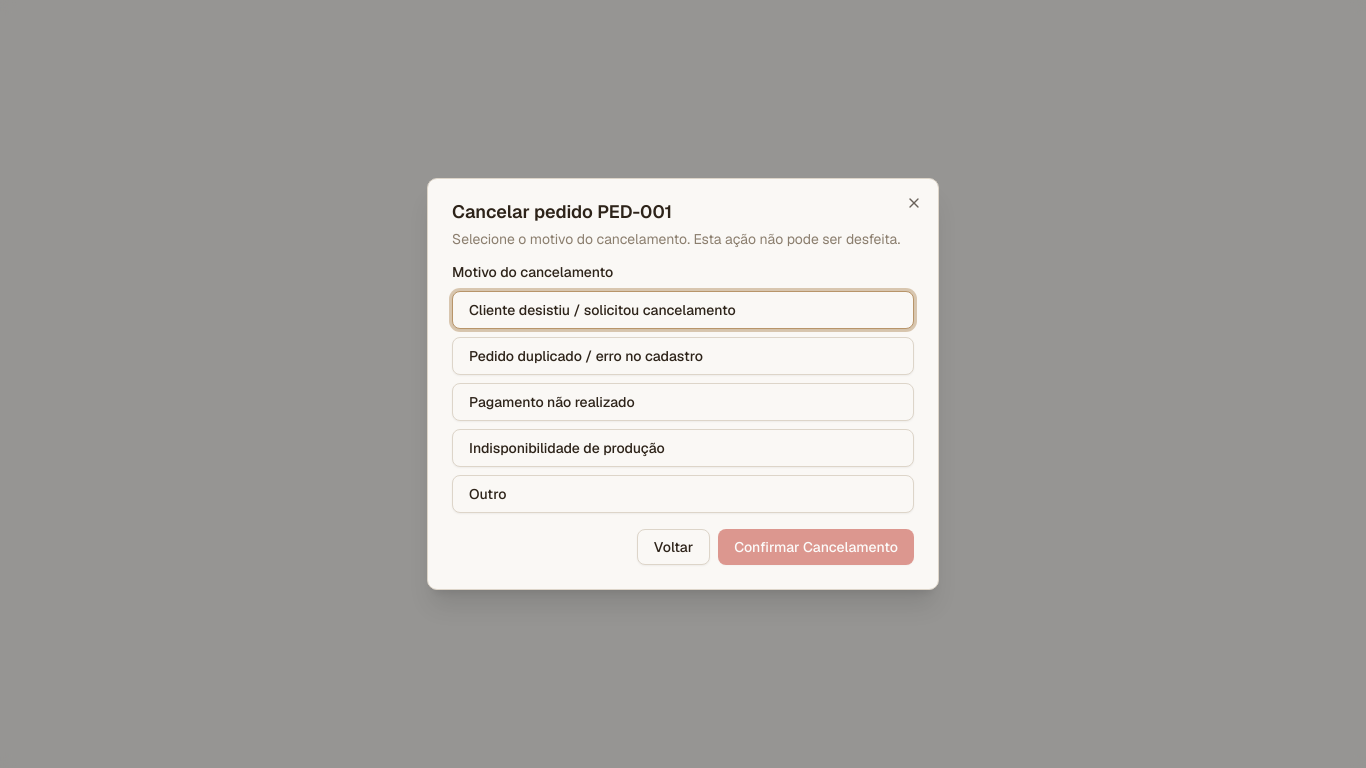
CancelPedidoDialog › requires free text when "Outro" is chosen
This screenshot has width=1366, height=768.
Click the button "Outro" at (488, 494), box x1=452 y1=475 x2=914 y2=513
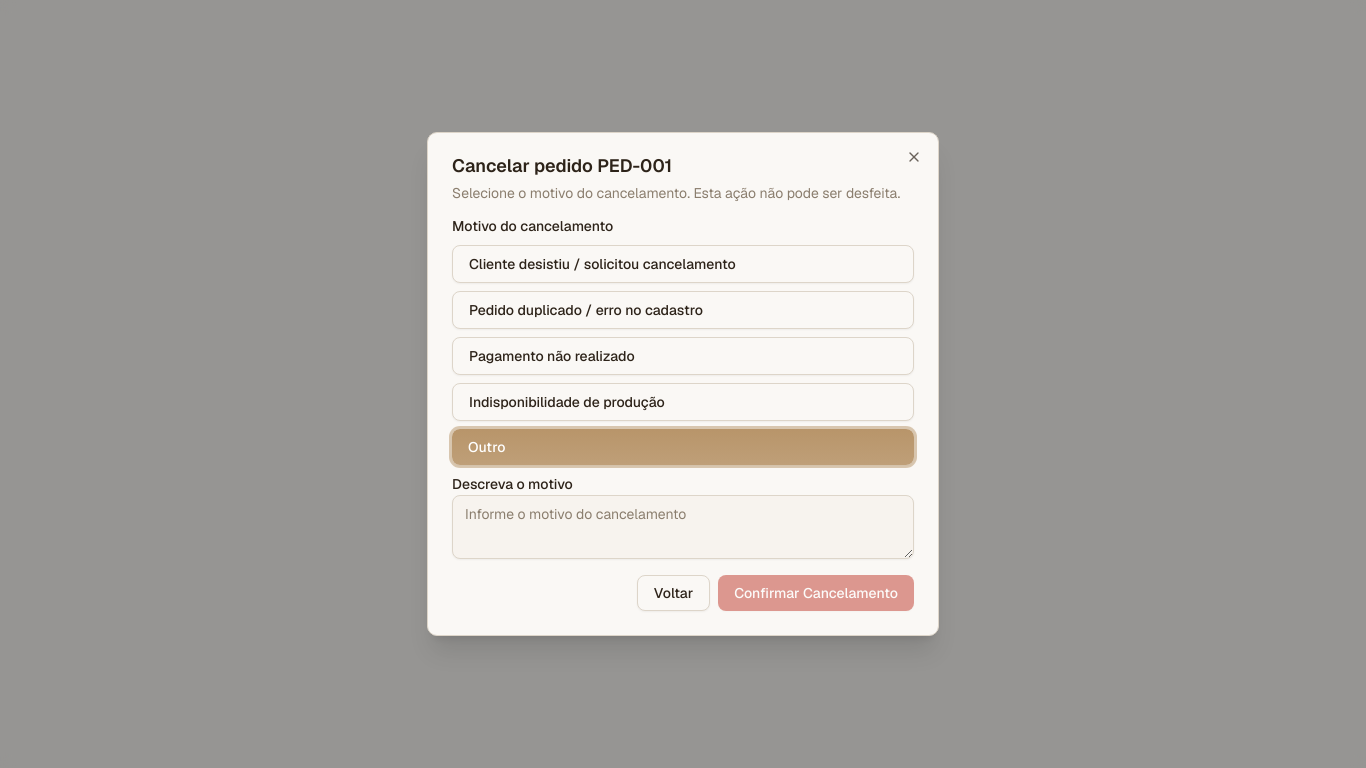
Expected: the button "Confirmar Cancelamento" is disabled, x1=718 y1=575 x2=914 y2=611
Type "Fora da área" into the text box labelled "Descreva o motivo" at (683, 527), box x1=452 y1=495 x2=914 y2=559
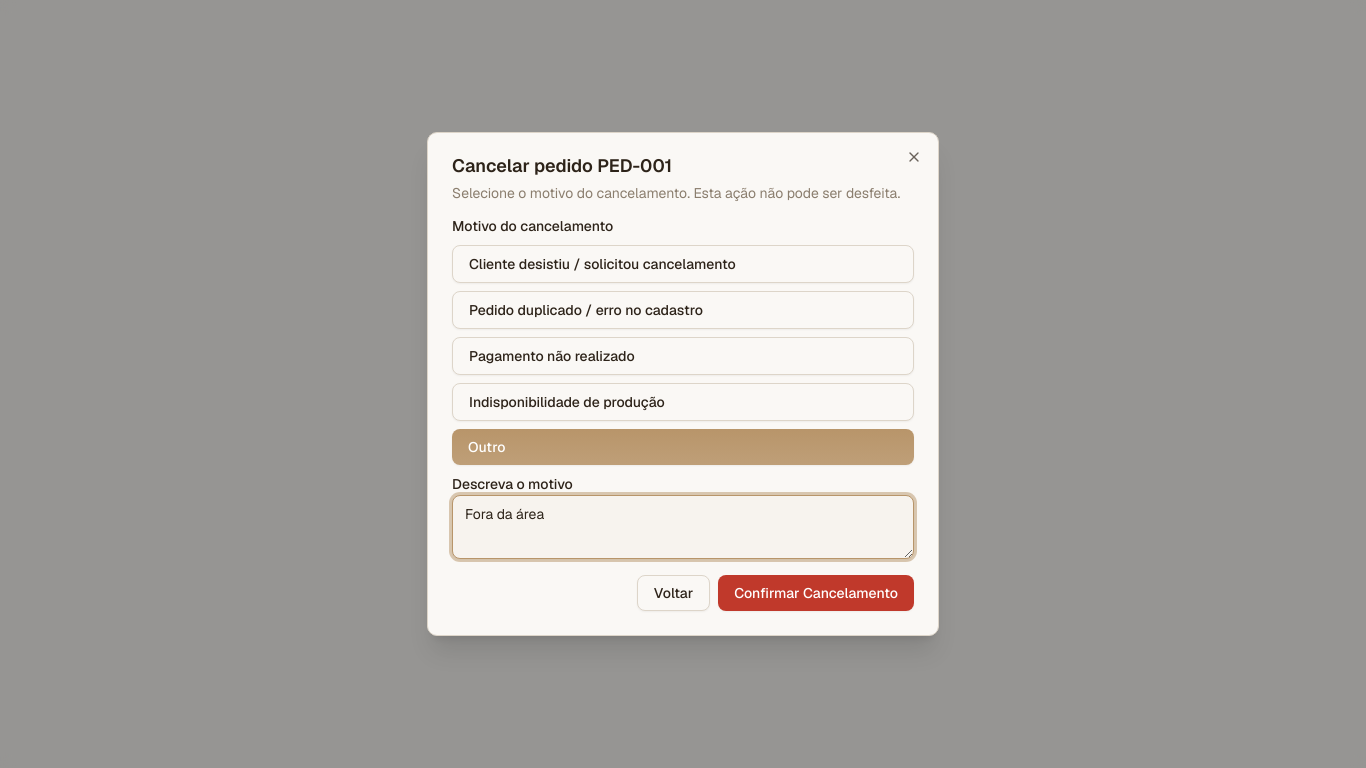
Now the button "Confirmar Cancelamento" is enabled, box x1=718 y1=575 x2=914 y2=611
